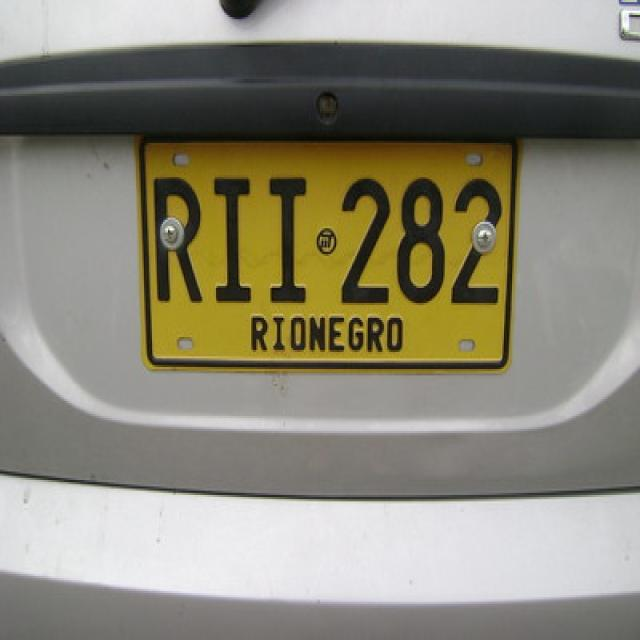placa_moto: (137, 144, 530, 375)
